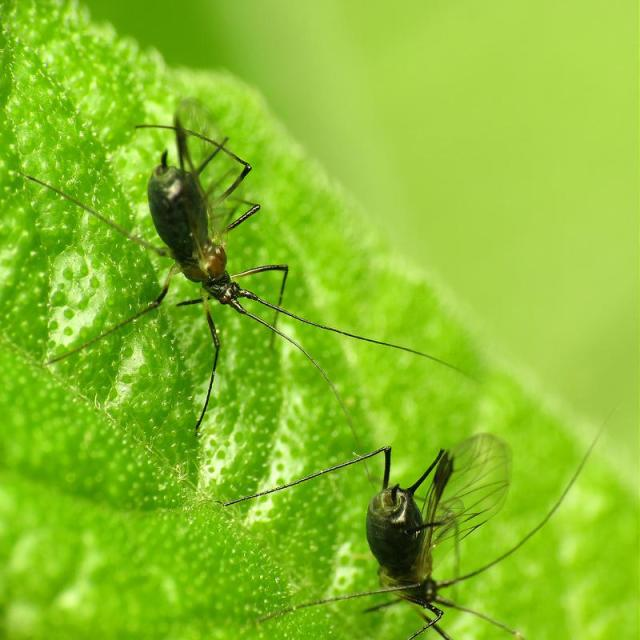Aphids: (69, 142, 336, 391), (289, 437, 558, 633)
